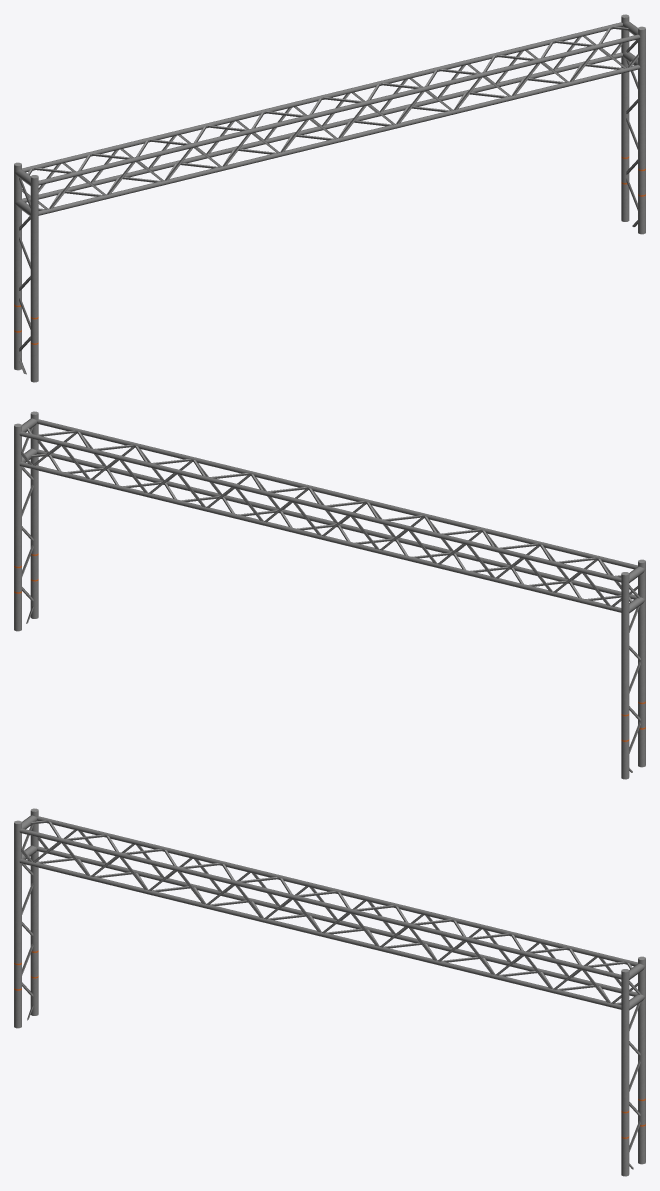
File: 道路標識柱_21m×1m×4m_01.fbx
The picture shows the model from 3 angles, top to bottom: view 1: azimuth 30°, elevation 25°; view 2: azimuth 150°, elevation 25°; view 3: azimuth 330°, elevation 25°; orthographic projection.
Parts seen in each view (by area): view 1: Mesh; view 2: Mesh; view 3: Mesh.
Boxes of the visible parts, x1,y1,x2,y2 form: Mesh: (14, 14, 645, 382); Mesh: (14, 411, 645, 779); Mesh: (14, 808, 645, 1176).
Bounding box in the file's own units: 21.25 × 6.75 × 1.25.
